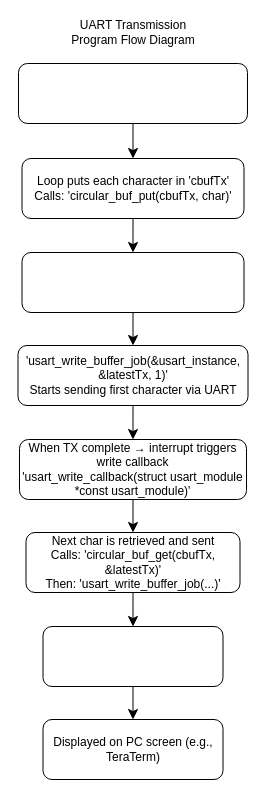
This 265x797 diagram has some shape labels left out. Each missing label, with the centre of its shape:
"'SerialConsoleWriteString()' taken the string argument to be printed" belongs at point 133,93.
"Characters are transmitted one by one" belongs at point 132,656.
"Checks if TX line is free If free: 'circular_buf_get(cbufTx, &latestTx)'" belongs at point 132,282.
